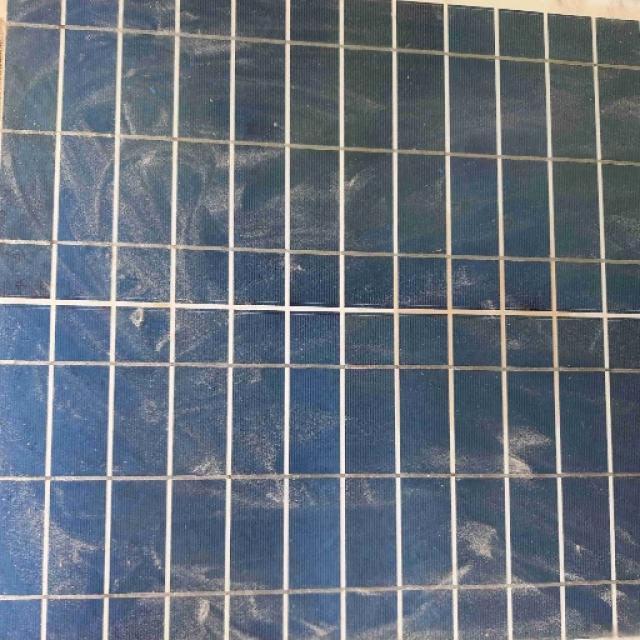Dirty: (0, 68, 640, 640)
